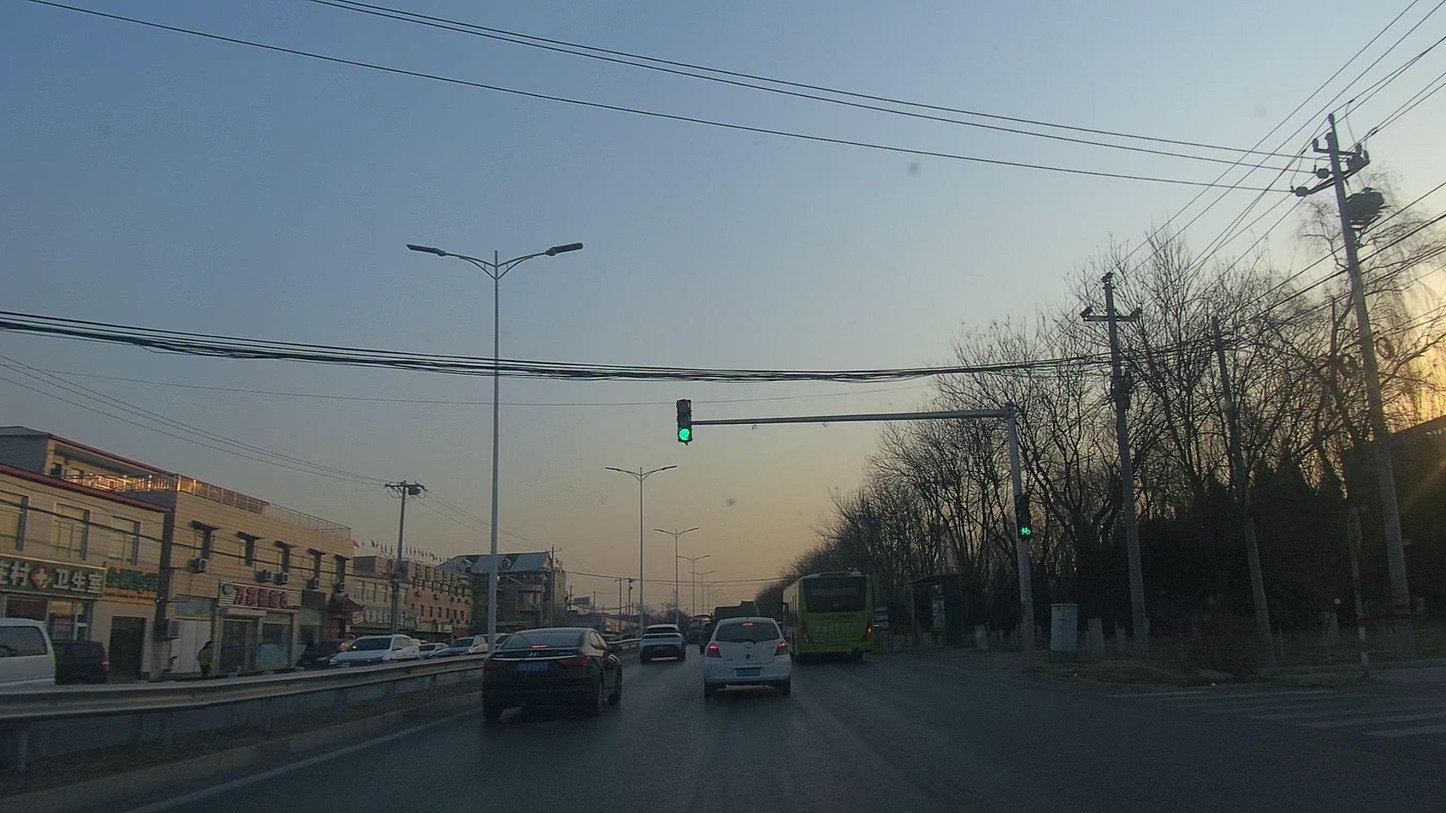red_light: (591, 309, 765, 532)
